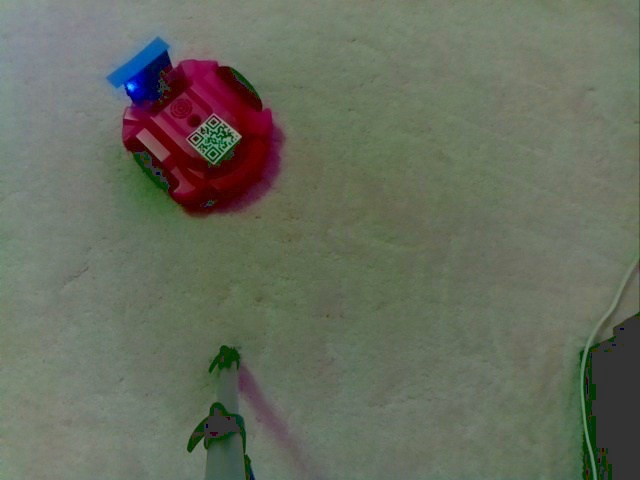board: (108, 28, 173, 97)
chassis: (110, 27, 283, 215)
